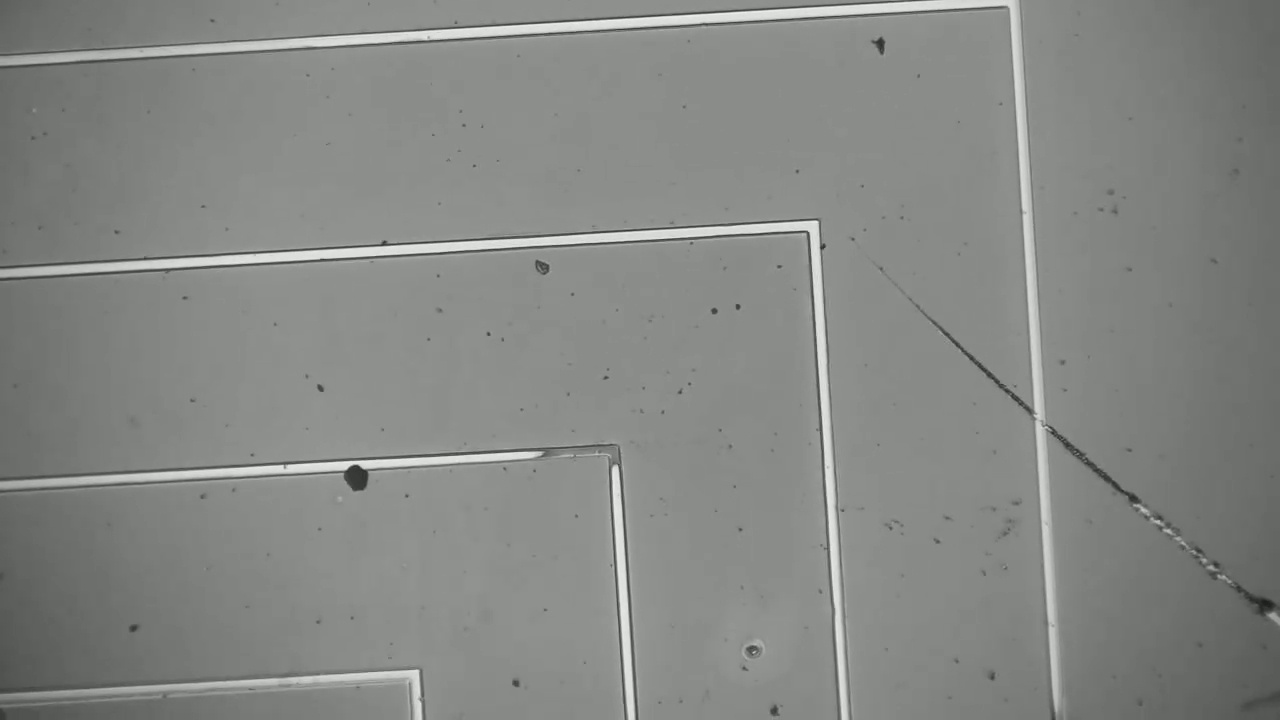gray_line: (490, 440, 625, 466), (592, 426, 635, 486)
scratch: (865, 263, 1279, 625)
stains_enbedded: (324, 447, 379, 507)
